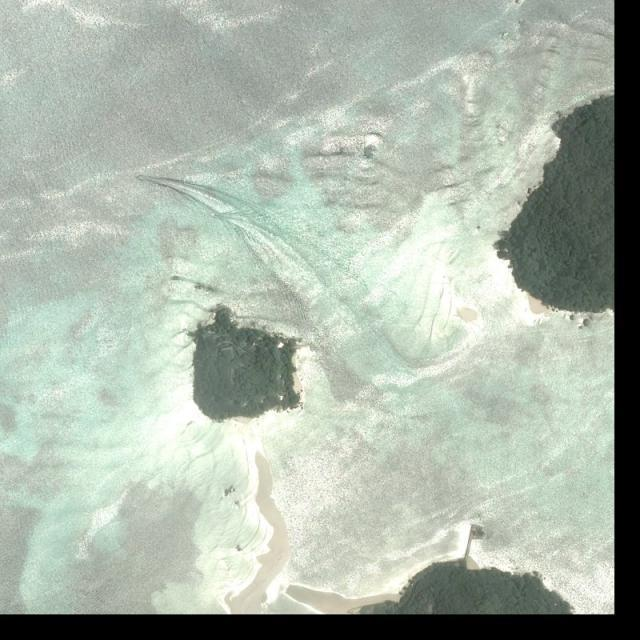ship: (209, 214, 216, 218), (138, 177, 142, 179)
